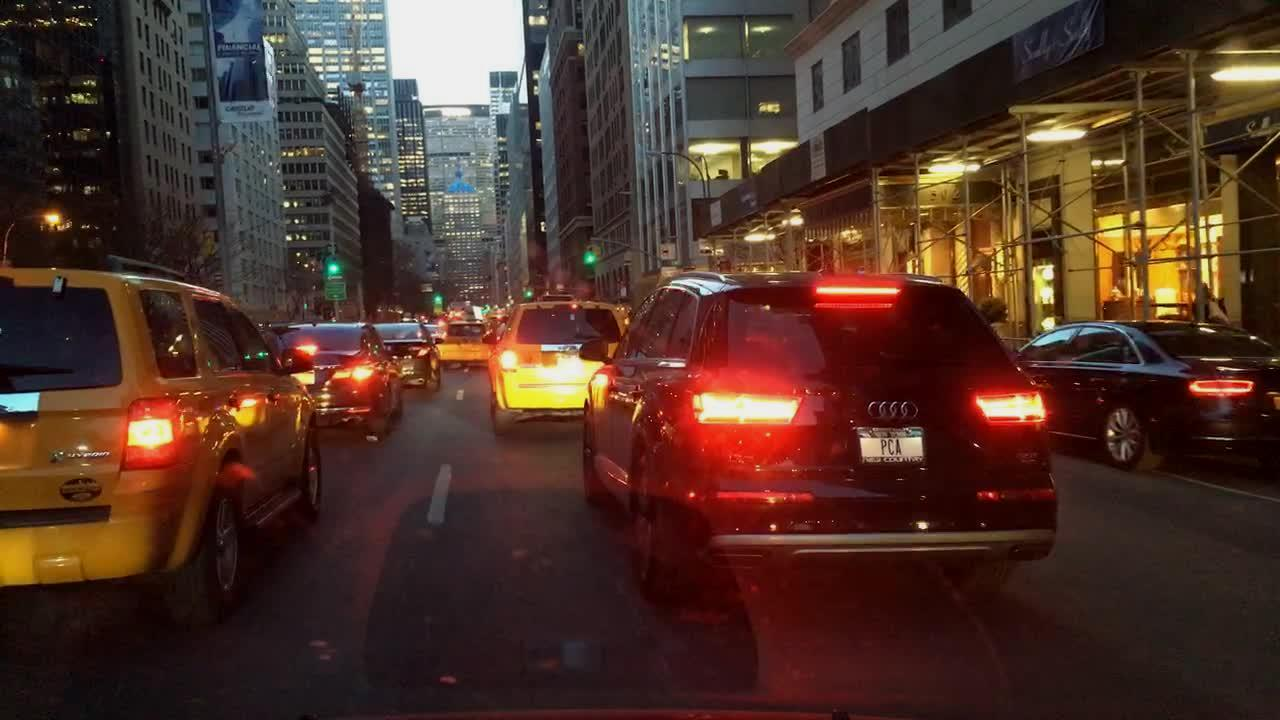Audi: (860, 390, 921, 428)
